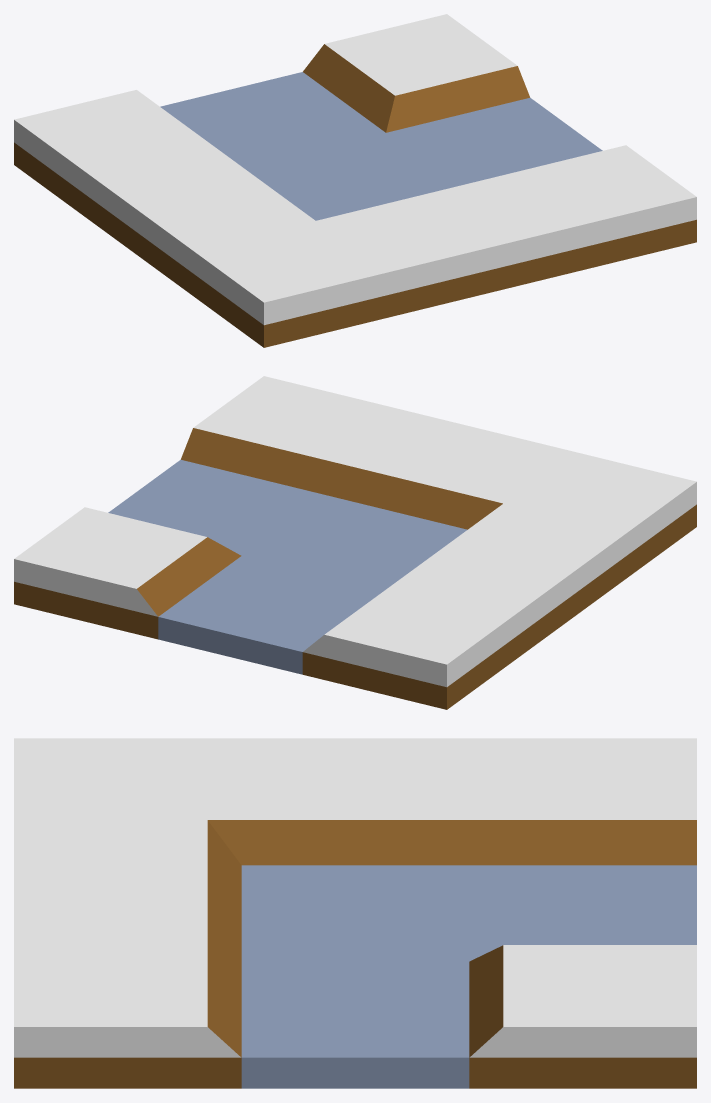
The model's file is WinterRiverCurve.fbx.
The picture shows the model from 3 angles, top to bottom: view 1: azimuth 30°, elevation 25°; view 2: azimuth 150°, elevation 25°; view 3: azimuth 270°, elevation 25°; orthographic projection. The views are drawn at different scales.
Parts seen in each view (by area): view 1: WinterRiverCurve; view 2: WinterRiverCurve; view 3: WinterRiverCurve.
Part boxes in pixels (x1,y1,x2,y2): WinterRiverCurve: (14, 14, 696, 347); WinterRiverCurve: (14, 376, 696, 709); WinterRiverCurve: (14, 738, 696, 1088).
Bounding box in the file's own units: 1 × 0.1 × 1.
